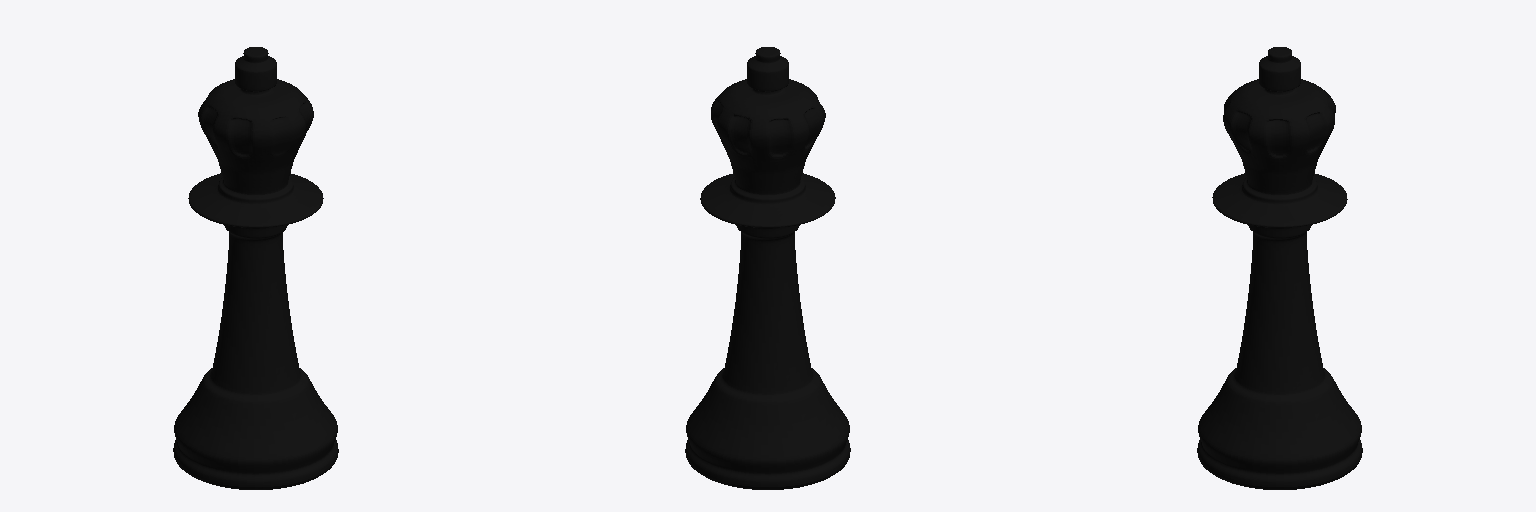
The model's file is black_king.obj.
The picture shows the model from 3 angles: view 1: azimuth 30°, elevation 25°; view 2: azimuth 150°, elevation 25°; view 3: azimuth 270°, elevation 25°; orthographic projection.
Parts seen in each view (by area): view 1: king_Cube; view 2: king_Cube; view 3: king_Cube.
Part boxes in pixels (x1,y1,x2,y2): king_Cube: (173, 47, 338, 489); king_Cube: (685, 47, 850, 489); king_Cube: (1197, 47, 1362, 489).
Size of the model in its own units: 0.0421 by 0.1155 by 0.0421.